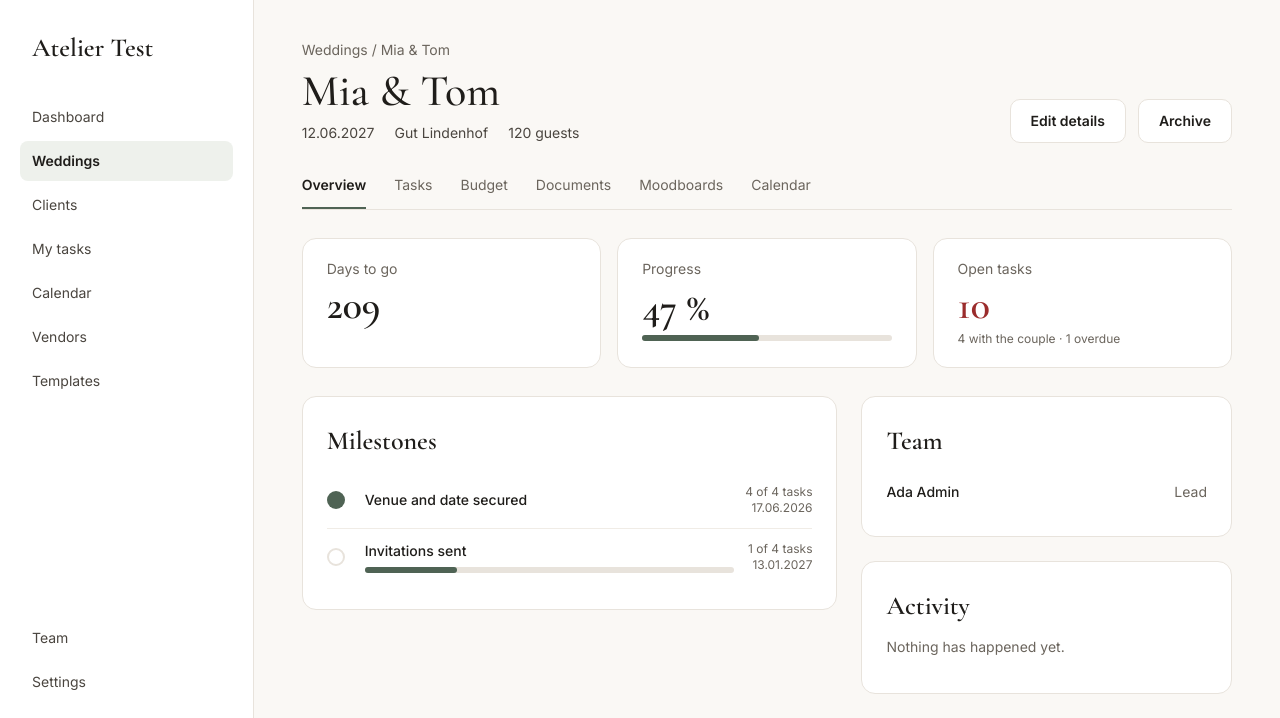
it: lets leads edit details and sends the version it is based on
The image size is (1280, 718).
Expected: the text "Invitations sent" is shown, [365, 542, 466, 559]
Expected: the text "1 of 4 tasks" is shown, [748, 541, 812, 556]
Click the button "Edit details".
click(1068, 121)  # box [1010, 99, 1126, 143]
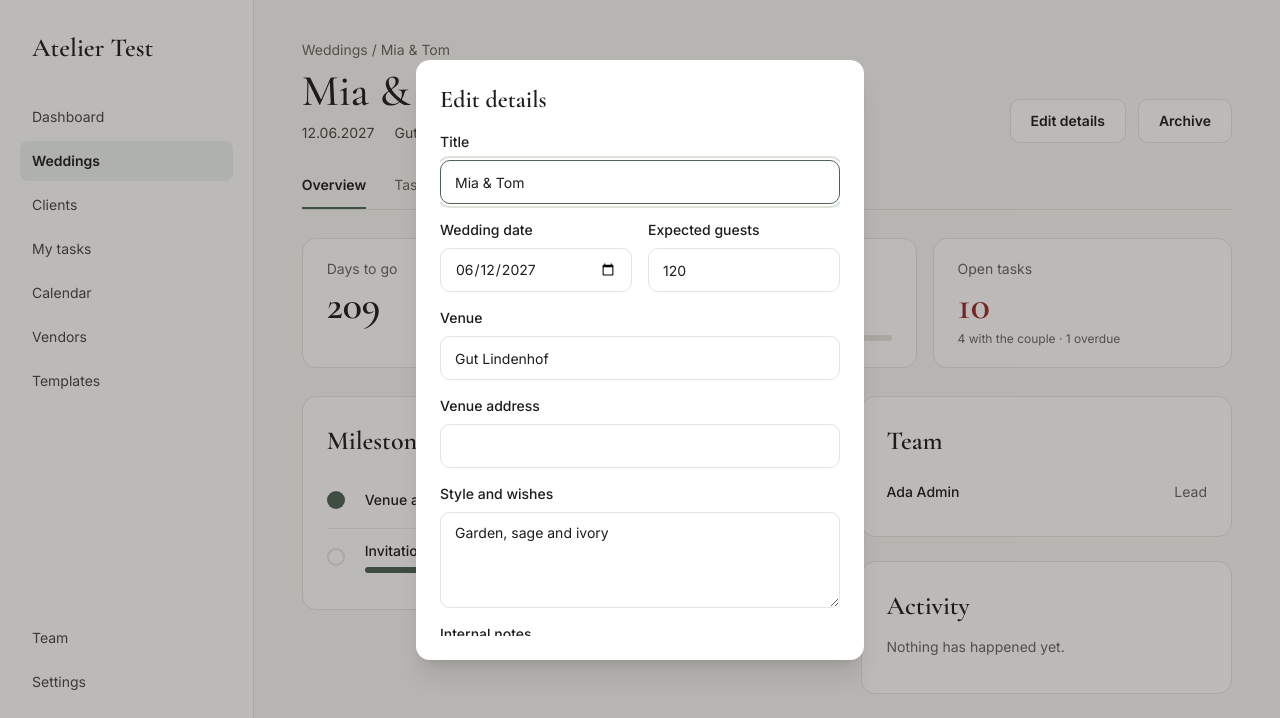
Replace the text in the number field labelled "Expected guests" with "130" at coordinates (744, 270), box [648, 248, 840, 292]
(page scrolled)
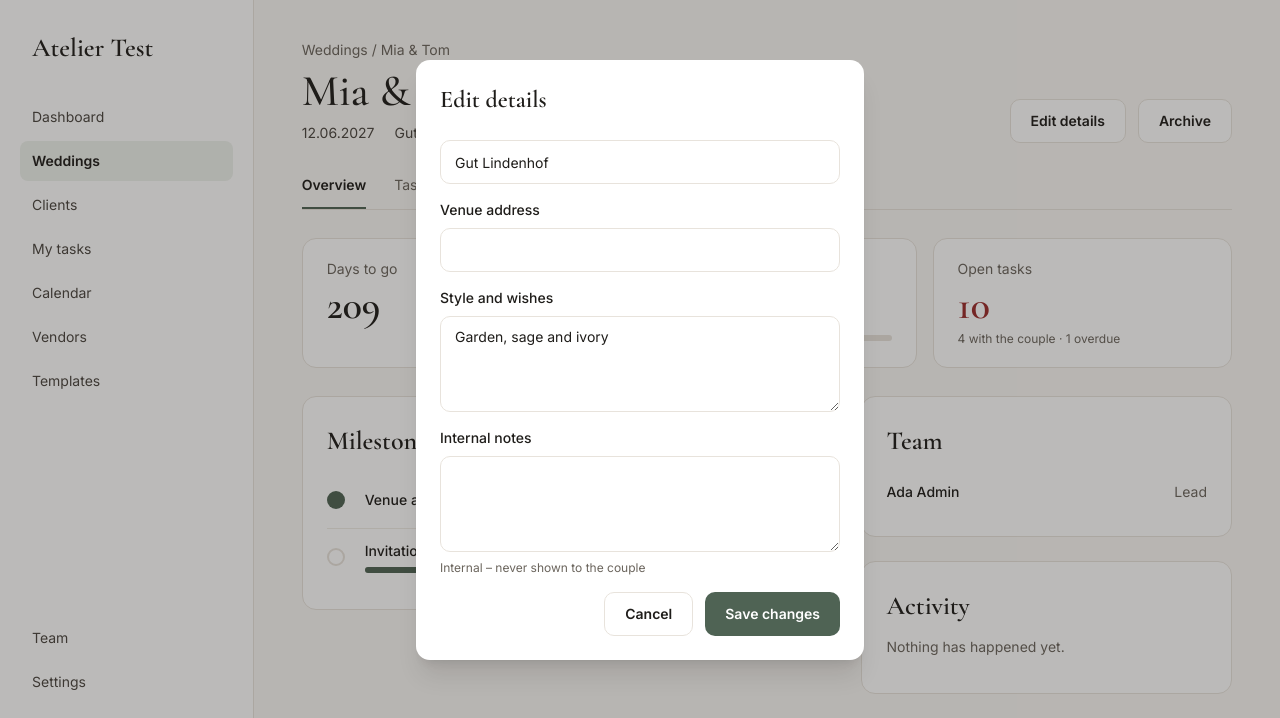
Click the button "Save changes".
click(773, 614)  # box [705, 592, 840, 636]
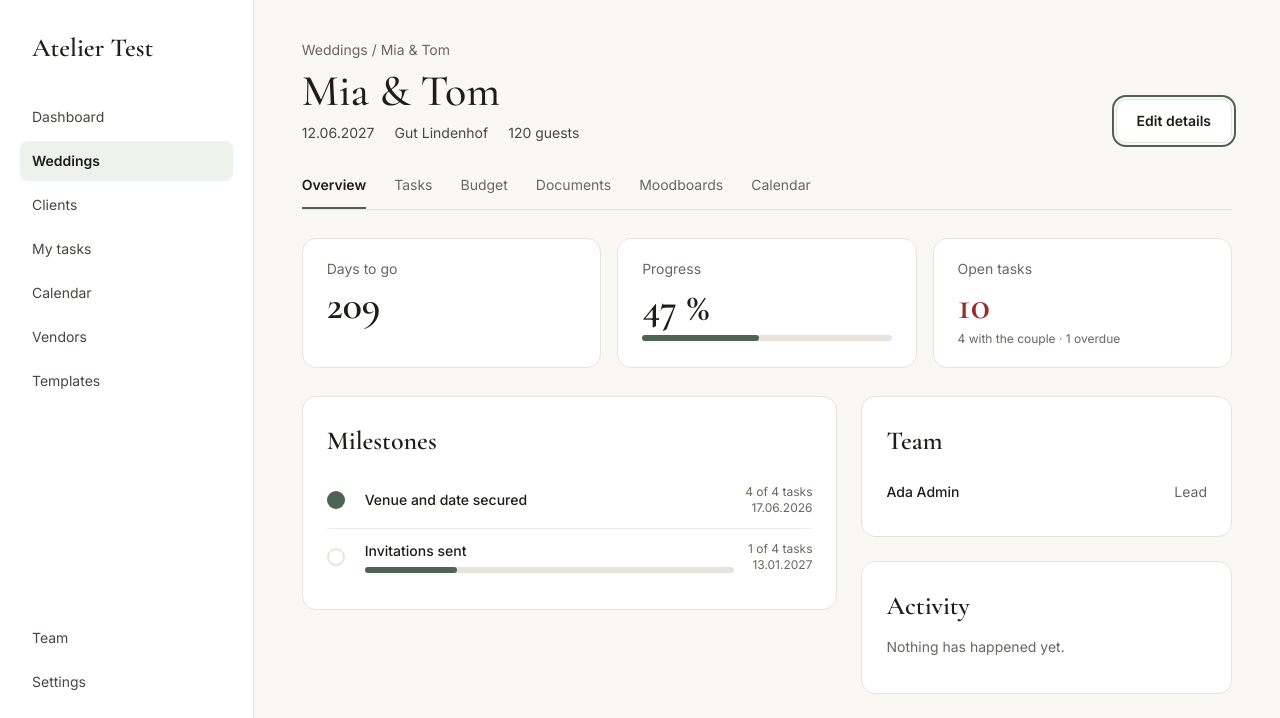
Result: the dialog is gone
